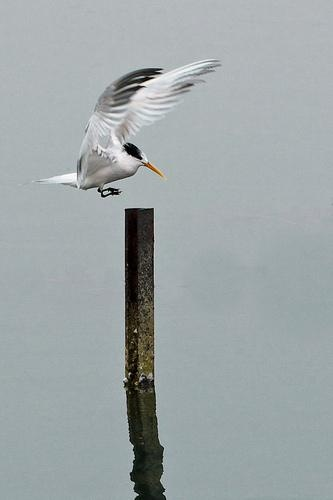bird: (31, 53, 222, 198)
